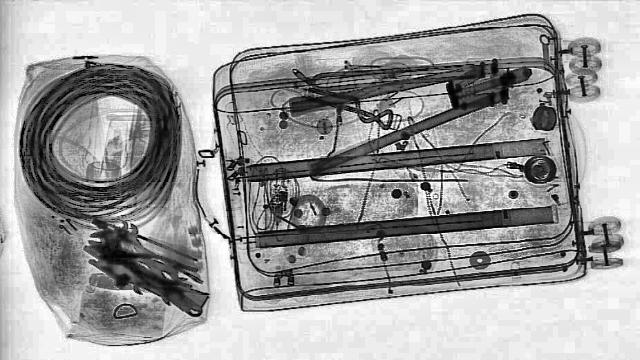Pliers: (75, 228, 201, 288)
Wrench: (78, 228, 214, 320)
